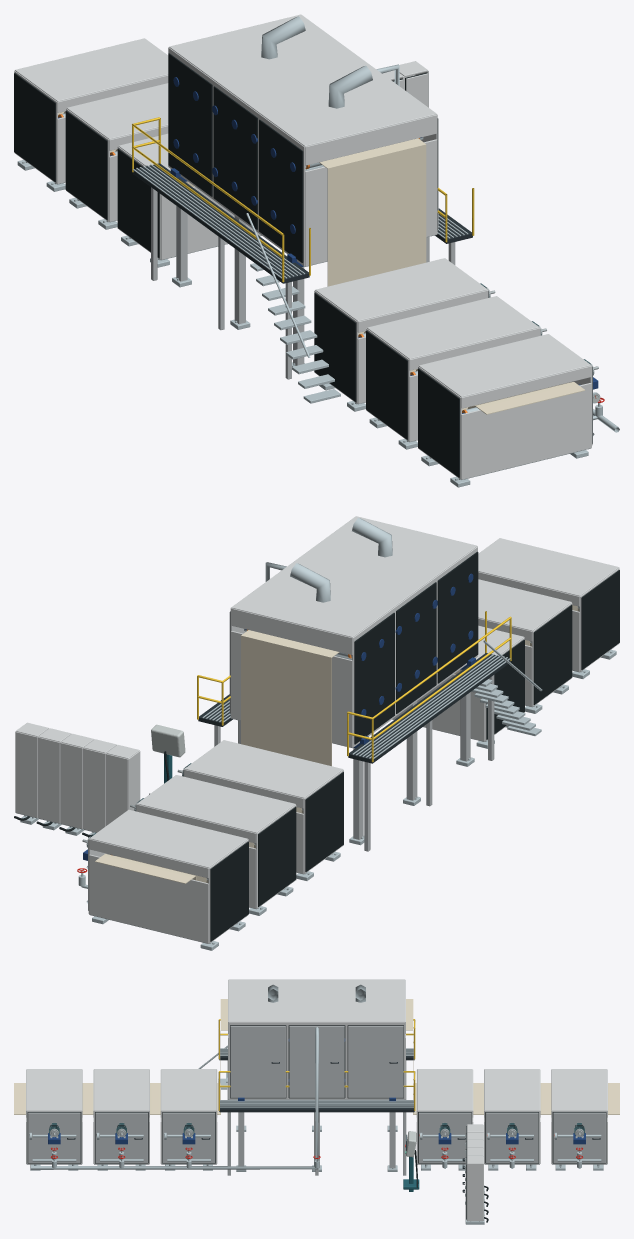
File: pretreatment.glb
The picture shows the model from 3 angles, top to bottom: view 1: azimuth 30°, elevation 25°; view 2: azimuth 150°, elevation 25°; view 3: azimuth 270°, elevation 25°; orthographic projection. The views are drawn at different scales.
Visible parts, largest first — view 1: f3_case_top.006, fabric_web, f3_case_end_opening.020, f3_case_top.003, f3_case_top.005, f3_case_top.004, f3_case_top, panel_gasket.012, panel_gasket.014, panel_gasket.013, panel_gasket.002, f3_case_top.001 (+21 smaller); view 2: f3_case_top.006, fabric_web, f3_case_end_opening.002, f3_case_top, f3_case_top.001, f3_case_top.002, f3_case_top.005, panel_gasket.012, panel_gasket.014, panel_gasket.013, panel_gasket.008, f3_case_top.004 (+29 smaller); view 3: f3_case_top.006, panel_skin.015, panel_skin.017, panel_skin.016, fabric_web, f3_case_top, f3_case_top.005, panel_skin.007, f3_case_top.001, f3_case_top.002, f3_case_top.003, f3_case_top.004 (+21 smaller).
Part boxes in pixels (x1,y1,x2,y2): f3_case_top.006: (169, 14, 436, 146); fabric_web: (58, 111, 585, 414); f3_case_end_opening.020: (461, 383, 591, 479); f3_case_top.003: (315, 258, 487, 321); f3_case_top.005: (419, 334, 591, 397); f3_case_top.004: (367, 296, 539, 359); f3_case_top: (15, 38, 168, 101); panel_gasket.012: (259, 119, 303, 262); panel_gasket.014: (168, 53, 212, 196); panel_gasket.013: (213, 86, 257, 229); panel_gasket.002: (65, 111, 107, 219); f3_case_top.001: (66, 83, 168, 139); f3_case_top.006: (231, 516, 477, 637); fabric_web: (95, 605, 579, 883); f3_case_end_opening.002: (89, 854, 208, 943); f3_case_top: (89, 809, 247, 867); f3_case_top.001: (137, 775, 295, 833); f3_case_top.002: (185, 740, 342, 798); f3_case_top.005: (478, 538, 618, 596); panel_gasket.012: (437, 551, 478, 683); panel_gasket.014: (354, 612, 394, 744); panel_gasket.013: (396, 582, 436, 713); panel_gasket.008: (533, 604, 572, 704); f3_case_top.004: (478, 579, 571, 631); f3_case_top.006: (228, 979, 405, 1021); panel_skin.015: (230, 1026, 285, 1097); panel_skin.017: (348, 1026, 403, 1097); panel_skin.016: (289, 1026, 344, 1097); fabric_web: (14, 999, 619, 1114); f3_case_top: (551, 1069, 607, 1110); f3_case_top.005: (26, 1069, 82, 1110); panel_skin.007: (162, 1112, 215, 1163); f3_case_top.001: (484, 1069, 539, 1110); f3_case_top.002: (417, 1069, 472, 1110); f3_case_top.003: (161, 1069, 216, 1110); f3_case_top.004: (94, 1069, 149, 1110).
Bounding box in the file's own units: 7.61 × 5.59 × 18.
